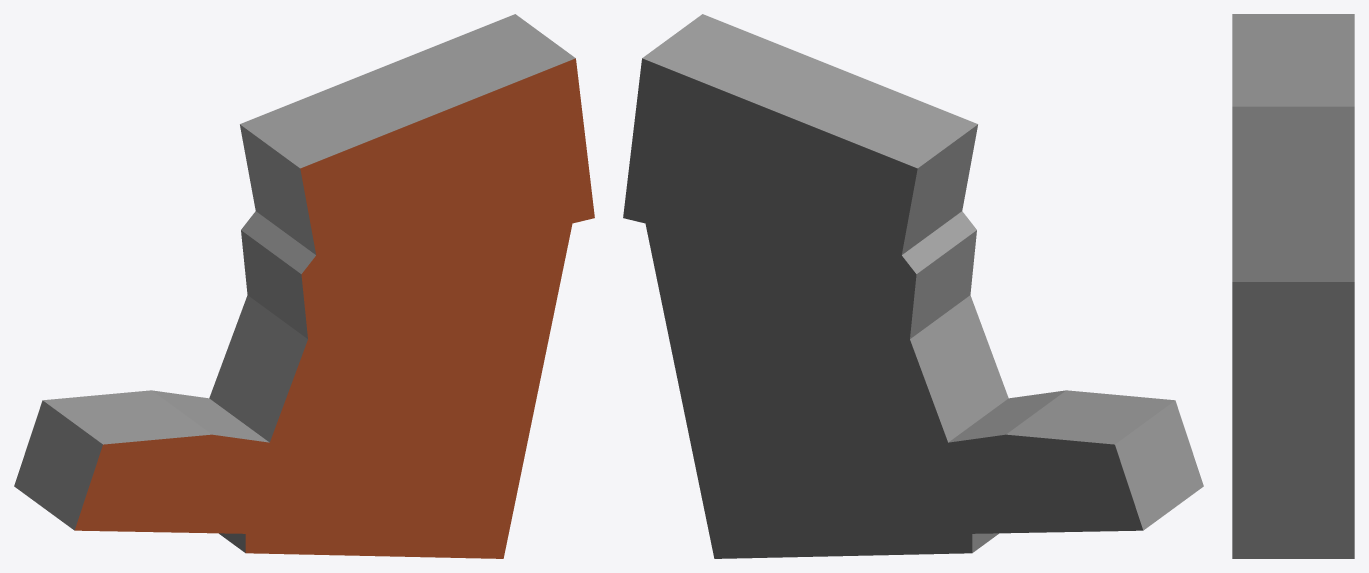
Rendered from construction_2263_assumed_A_Casa_h6m.obj.
3 renders of one model, left to right at view 1: azimuth 30°, elevation 25°; view 2: azimuth 150°, elevation 25°; view 3: azimuth 270°, elevation 25°, orthographic.
Parts seen in each view (by area): view 1: construction_2263_assumed_A_Casa; view 2: construction_2263_assumed_A_Casa; view 3: construction_2263_assumed_A_Casa.
Part boxes in pixels (x1=…): construction_2263_assumed_A_Casa: x1=14, y1=14, x2=594, y2=558; construction_2263_assumed_A_Casa: x1=623, y1=14, x2=1203, y2=558; construction_2263_assumed_A_Casa: x1=1232, y1=14, x2=1354, y2=558.
Bounding box in the file's own units: 29.77 × 26.41 × 6.
